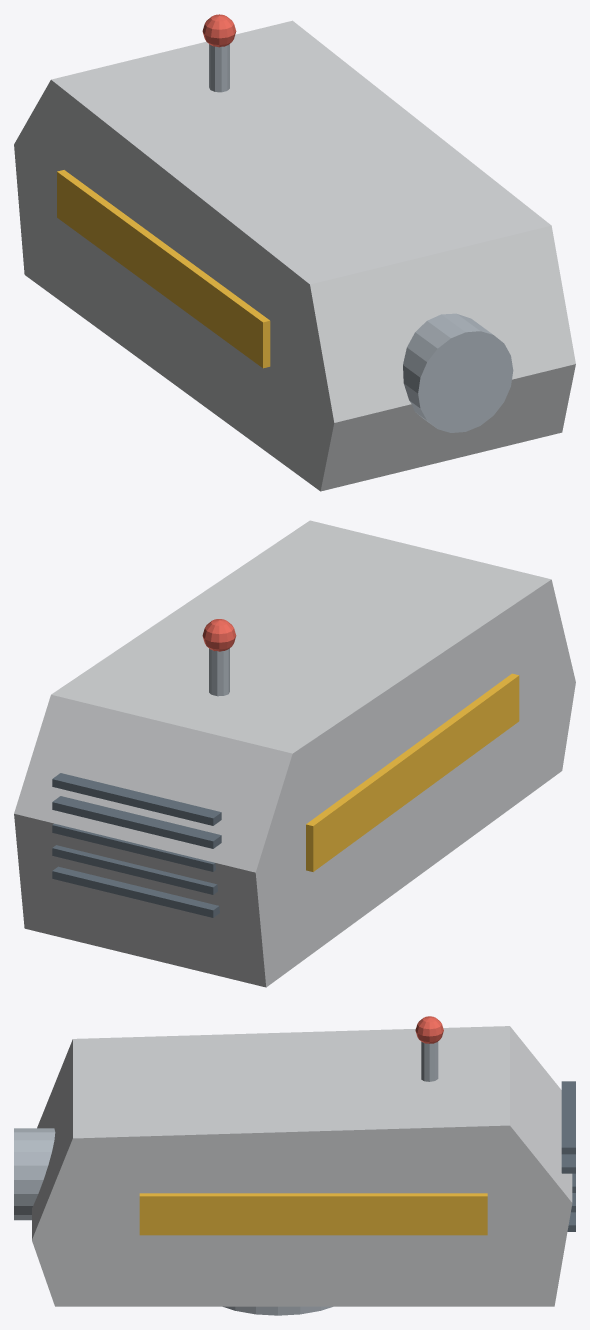
The model's file is ENERGY-017.glb.
3 renders of one model, top to bottom at view 1: azimuth 30°, elevation 25°; view 2: azimuth 150°, elevation 25°; view 3: azimuth 270°, elevation 25°, orthographic. The views are drawn at different scales.
Visible parts, largest first — view 1: ENERGY-017; view 2: ENERGY-017; view 3: ENERGY-017.
Part boxes in pixels (<box>): ENERGY-017: <box>14,14,575,491</box>; ENERGY-017: <box>14,520,575,987</box>; ENERGY-017: <box>14,1016,575,1315</box>.
Size of the model in its own units: 1.4 by 1.62 by 3.15.
